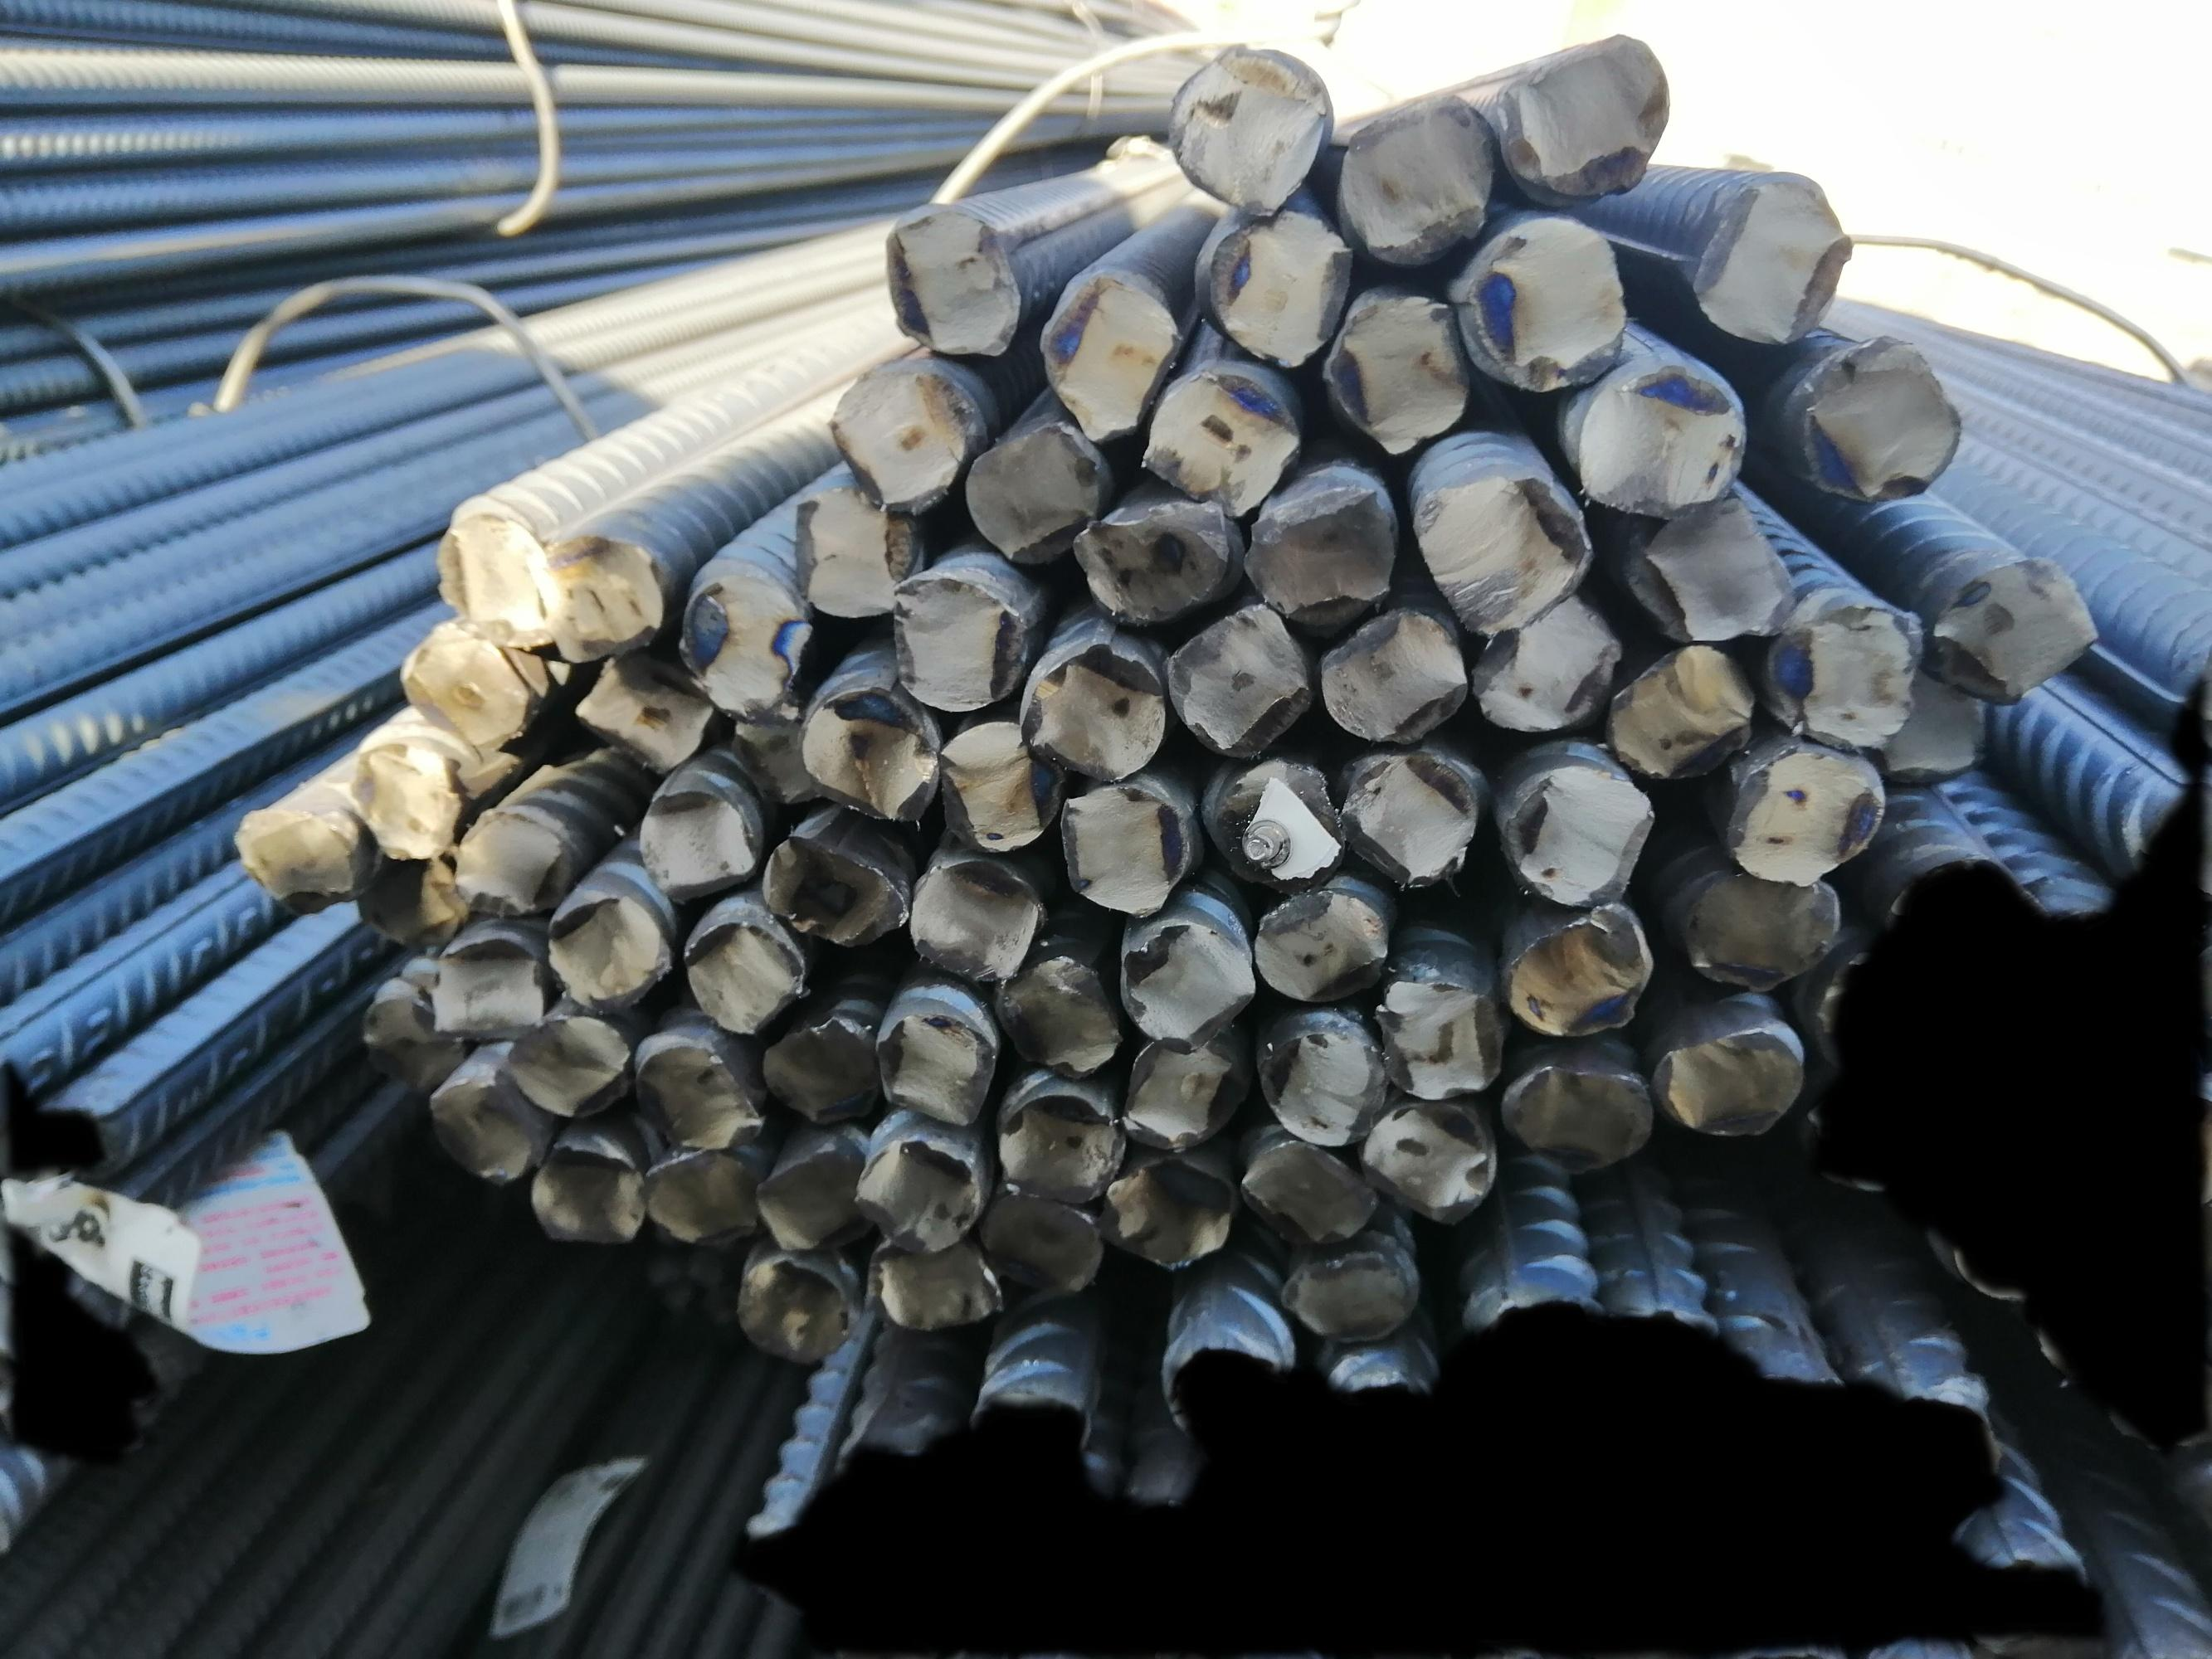bar: (1454, 214, 1637, 390), (1677, 173, 1855, 352), (1414, 471, 1602, 636), (1335, 91, 1503, 270), (1623, 483, 1799, 648), (1170, 51, 1332, 216), (1802, 349, 1971, 507), (1196, 204, 1354, 369), (1517, 30, 1670, 197), (1576, 364, 1745, 514), (1930, 556, 2102, 702), (872, 561, 1032, 718), (1327, 291, 1469, 465), (1030, 272, 1175, 443), (1729, 737, 1886, 894), (1145, 368, 1306, 518), (879, 202, 1025, 362), (831, 364, 980, 518), (1168, 605, 1313, 762), (1469, 598, 1635, 734), (959, 418, 1109, 568), (1771, 598, 1917, 751), (1239, 488, 1405, 622), (793, 683, 945, 829), (1018, 645, 1171, 786), (425, 505, 572, 652), (1506, 767, 1658, 908), (1342, 742, 1483, 892), (1316, 605, 1468, 744), (1072, 500, 1234, 629), (1607, 648, 1757, 788), (1250, 1006, 1391, 1152), (1046, 781, 1196, 917), (394, 619, 535, 760), (570, 638, 718, 772), (933, 708, 1065, 857), (1203, 751, 1346, 889), (1874, 624, 1996, 782), (1117, 910, 1257, 1047), (791, 484, 927, 626), (680, 570, 811, 709), (1504, 915, 1651, 1037), (1693, 870, 1848, 985), (757, 833, 910, 948), (1089, 1154, 1243, 1269), (535, 537, 668, 669), (978, 1182, 1103, 1317), (851, 1134, 987, 1258), (1367, 1103, 1503, 1227), (1506, 1061, 1654, 1175), (628, 1033, 767, 1154), (905, 859, 1035, 986), (1652, 1028, 1799, 1141), (992, 948, 1117, 1077), (342, 732, 462, 864), (1381, 974, 1511, 1094), (537, 894, 669, 1012), (1236, 1134, 1379, 1244), (225, 800, 370, 906), (1112, 1037, 1252, 1147), (512, 1138, 652, 1244), (636, 781, 760, 899), (873, 1009, 997, 1126), (1248, 892, 1381, 1000), (638, 1140, 760, 1255), (502, 1014, 631, 1122), (995, 1096, 1126, 1202), (866, 1236, 1011, 1331), (1281, 1236, 1410, 1342), (682, 922, 802, 1033), (748, 1141, 870, 1251), (347, 838, 467, 948), (450, 805, 568, 915), (424, 1070, 533, 1187), (760, 1016, 879, 1124), (725, 681, 830, 803), (357, 983, 467, 1098), (739, 1253, 847, 1368), (436, 938, 549, 1037)
